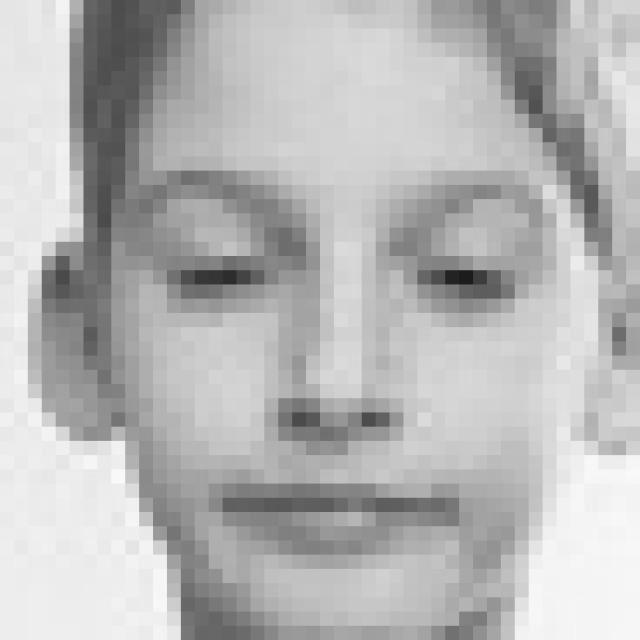real: (48, 12, 606, 628), (144, 194, 552, 324)
